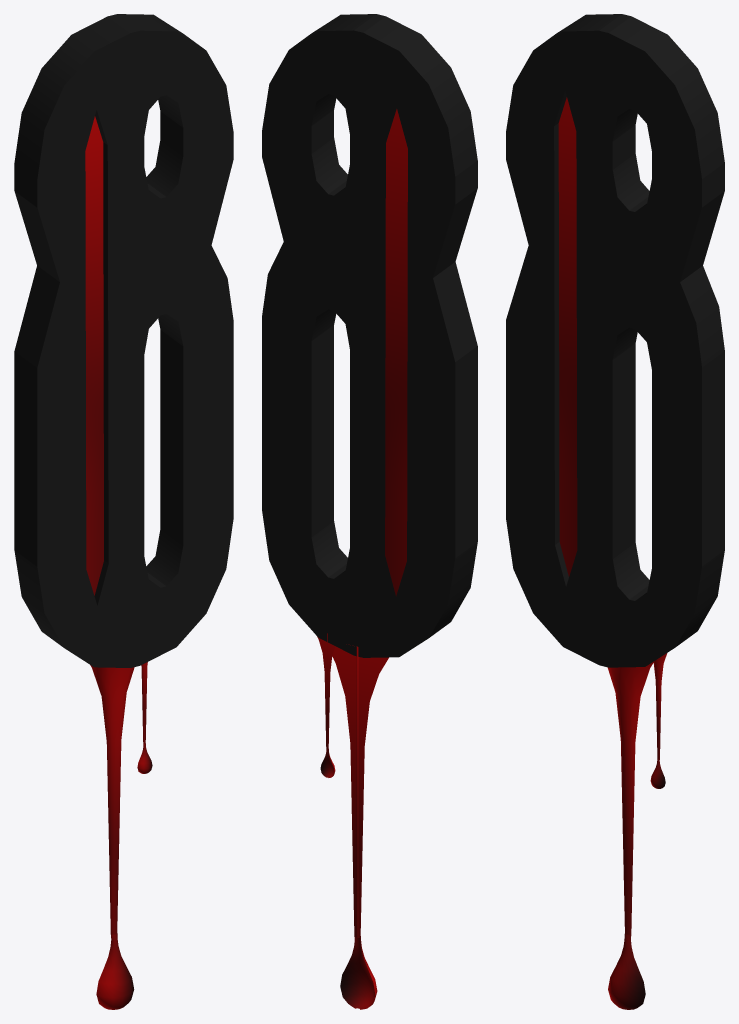
The picture shows the model from 3 angles, left to right: view 1: azimuth 30°, elevation 25°; view 2: azimuth 150°, elevation 25°; view 3: azimuth 330°, elevation 25°; orthographic projection.
Visible parts, largest first — view 1: 8, 8_Element, Blood_383, Blood_404; view 2: 8, 8_Element, Blood_383, Blood_404; view 3: 8, 8_Element, Blood_383, Blood_404.
Boxes of the visible parts, box(x1,y1,x2,y2) form: 8: box(14, 14, 233, 667); 8_Element: box(85, 116, 103, 595); Blood_383: box(90, 665, 134, 1009); Blood_404: box(137, 662, 152, 773); 8: box(262, 14, 477, 657); 8_Element: box(385, 109, 407, 596); Blood_383: box(332, 646, 388, 1009); Blood_404: box(317, 633, 335, 777); 8: box(506, 14, 724, 667); 8_Element: box(558, 97, 577, 576); Blood_383: box(607, 662, 653, 1009); Blood_404: box(650, 653, 667, 788).
Size of the model in its own units: 24.75 by 120 by 5.05.
2 materials, 1 textured.
